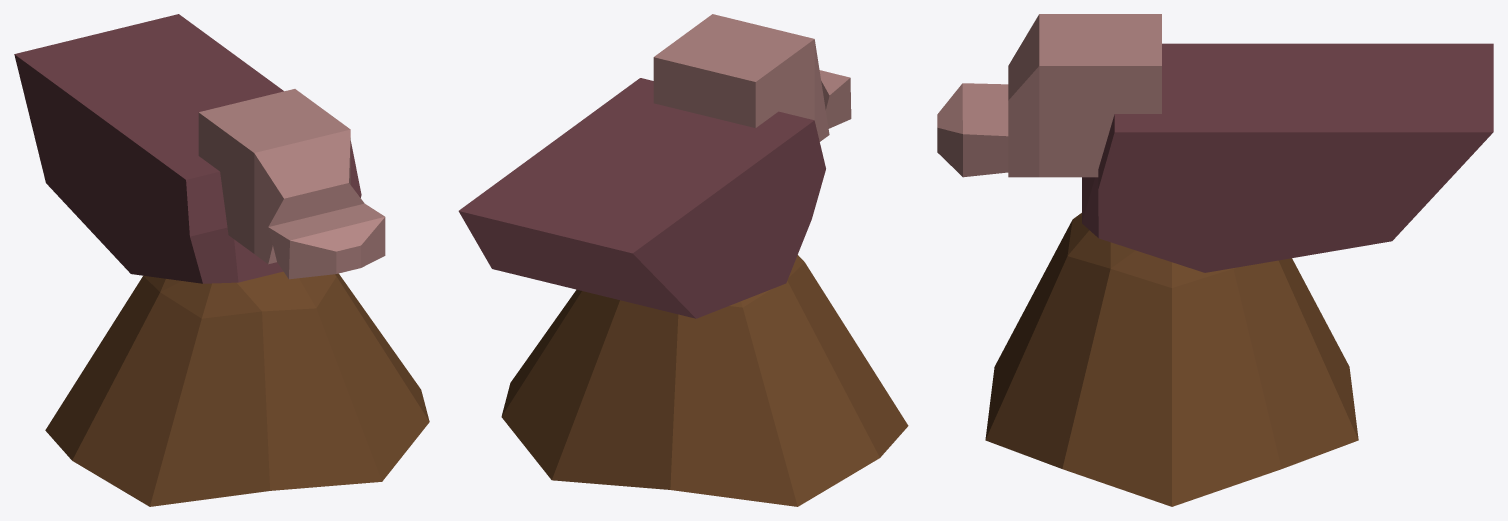
Rendered from Shooter.fbx.
3 views of the same model, side by side, from view 1: azimuth 30°, elevation 25°; view 2: azimuth 150°, elevation 25°; view 3: azimuth 270°, elevation 25° (orthographic). The views are drawn at different scales.
Parts seen in each view (by area): view 1: Icosphere, Cube, Cube.001; view 2: Icosphere, Cube, Cube.001; view 3: Cube, Icosphere, Cube.001.
Part boxes in pixels (bbox=[...]): Icosphere: bbox=[45, 271, 429, 506]; Cube: bbox=[14, 14, 361, 283]; Cube.001: bbox=[198, 89, 385, 279]; Icosphere: bbox=[501, 255, 908, 506]; Cube: bbox=[458, 78, 825, 318]; Cube.001: bbox=[653, 14, 851, 141]; Cube: bbox=[1082, 43, 1493, 272]; Icosphere: bbox=[985, 213, 1358, 506]; Cube.001: bbox=[937, 14, 1161, 177].
Bounding box in the file's own units: 362 × 333 × 453.
